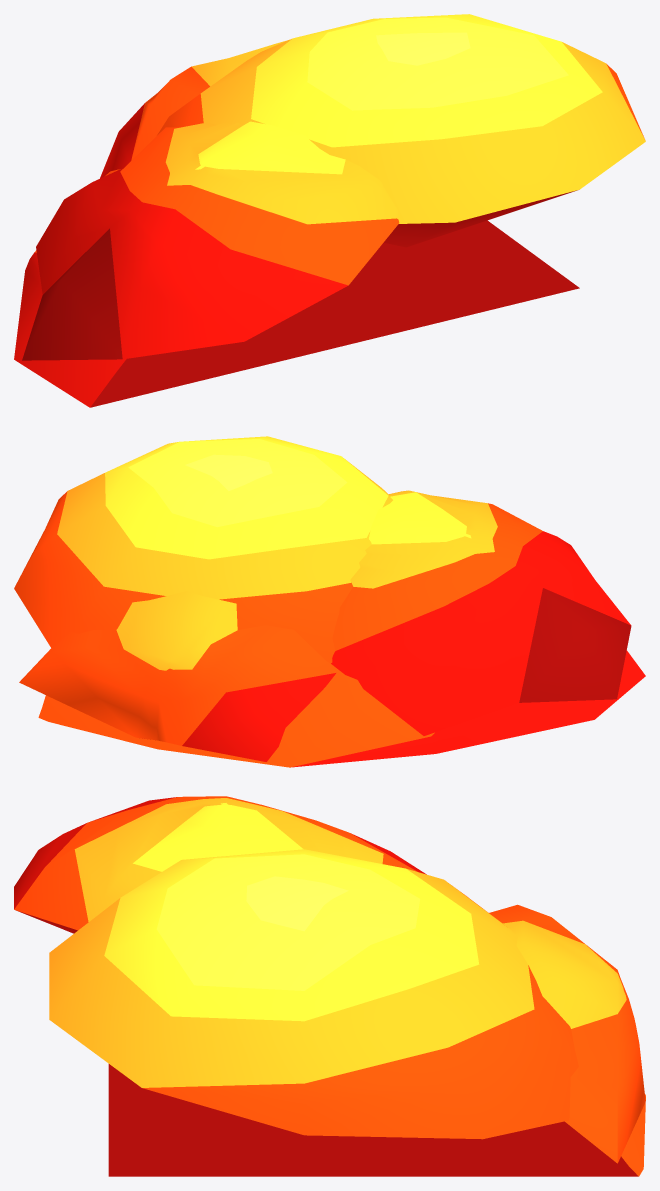
File: shot_zflame_177.glb
3 views of the same model, one above another, from view 1: azimuth 30°, elevation 25°; view 2: azimuth 150°, elevation 25°; view 3: azimuth 270°, elevation 25° (orthographic). The views are drawn at different scales.
Visible parts, largest first — view 1: zflame_5_billow3_b177, zflame_5_billow0_b177, zflame_5_bed_b177, zflame_5_billow4_b177; view 2: zflame_5_billow0_b177, zflame_5_billow3_b177, zflame_5_billow4_b177, zflame_5_bed_b177; view 3: zflame_5_billow0_b177, zflame_5_bed_b177, zflame_5_billow3_b177, zflame_5_billow4_b177.
Boxes of the visible parts, <box> form: zflame_5_billow3_b177: <box>22,121,399,360</box>; zflame_5_billow0_b177: <box>157,14,645,247</box>; zflame_5_bed_b177: <box>14,169,579,407</box>; zflame_5_billow4_b177: <box>100,40,288,178</box>; zflame_5_billow0_b177: <box>14,436,392,663</box>; zflame_5_billow3_b177: <box>331,490,631,735</box>; zflame_5_billow4_b177: <box>19,591,336,761</box>; zflame_5_bed_b177: <box>38,650,645,767</box>; zflame_5_billow0_b177: <box>49,849,578,1139</box>; zflame_5_bed_b177: <box>108,1064,645,1176</box>; zflame_5_billow3_b177: <box>14,796,426,933</box>; zflame_5_billow4_b177: <box>489,904,645,1163</box>.
Size of the model in its own units: 10.79 by 3.32 by 8.07.
